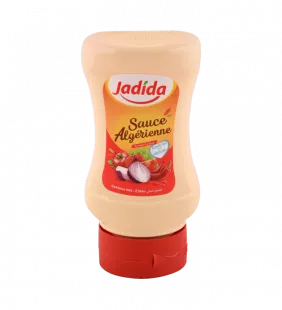JADIDA: (75, 20, 212, 284)
